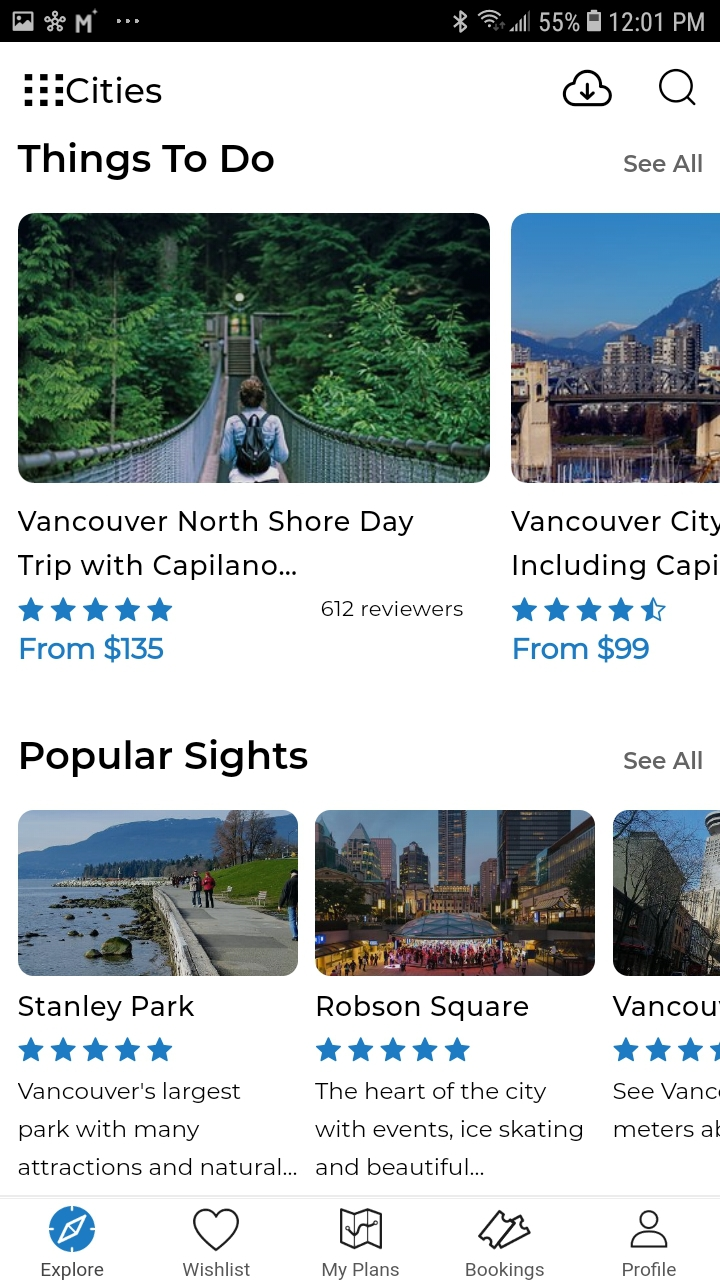Icon: (512, 597, 666, 623), (20, 596, 174, 622), (317, 1037, 471, 1062), (19, 1037, 173, 1062), (613, 1037, 720, 1062), (478, 1210, 531, 1250), (50, 1206, 96, 1252), (193, 1208, 240, 1251), (562, 71, 613, 108), (340, 1207, 383, 1249), (630, 1210, 668, 1249), (659, 69, 696, 106), (25, 75, 65, 108)
Image: (18, 214, 491, 484), (511, 213, 720, 484), (315, 810, 595, 976), (19, 810, 299, 976), (613, 811, 720, 977)
Text: (19, 510, 415, 581), (19, 1082, 297, 1176), (316, 1081, 583, 1176), (511, 510, 720, 581), (21, 738, 308, 778), (18, 142, 275, 181), (613, 1082, 720, 1138), (318, 995, 529, 1022), (19, 995, 195, 1022), (21, 634, 165, 664), (514, 634, 649, 663), (67, 76, 163, 105), (322, 601, 464, 618), (612, 995, 720, 1017), (624, 154, 702, 174), (624, 751, 703, 770), (466, 1261, 544, 1280), (322, 1262, 400, 1280), (42, 1261, 104, 1280), (182, 1261, 251, 1276), (623, 1261, 677, 1277)
UpperTaskBar: (1, 1, 720, 43)
